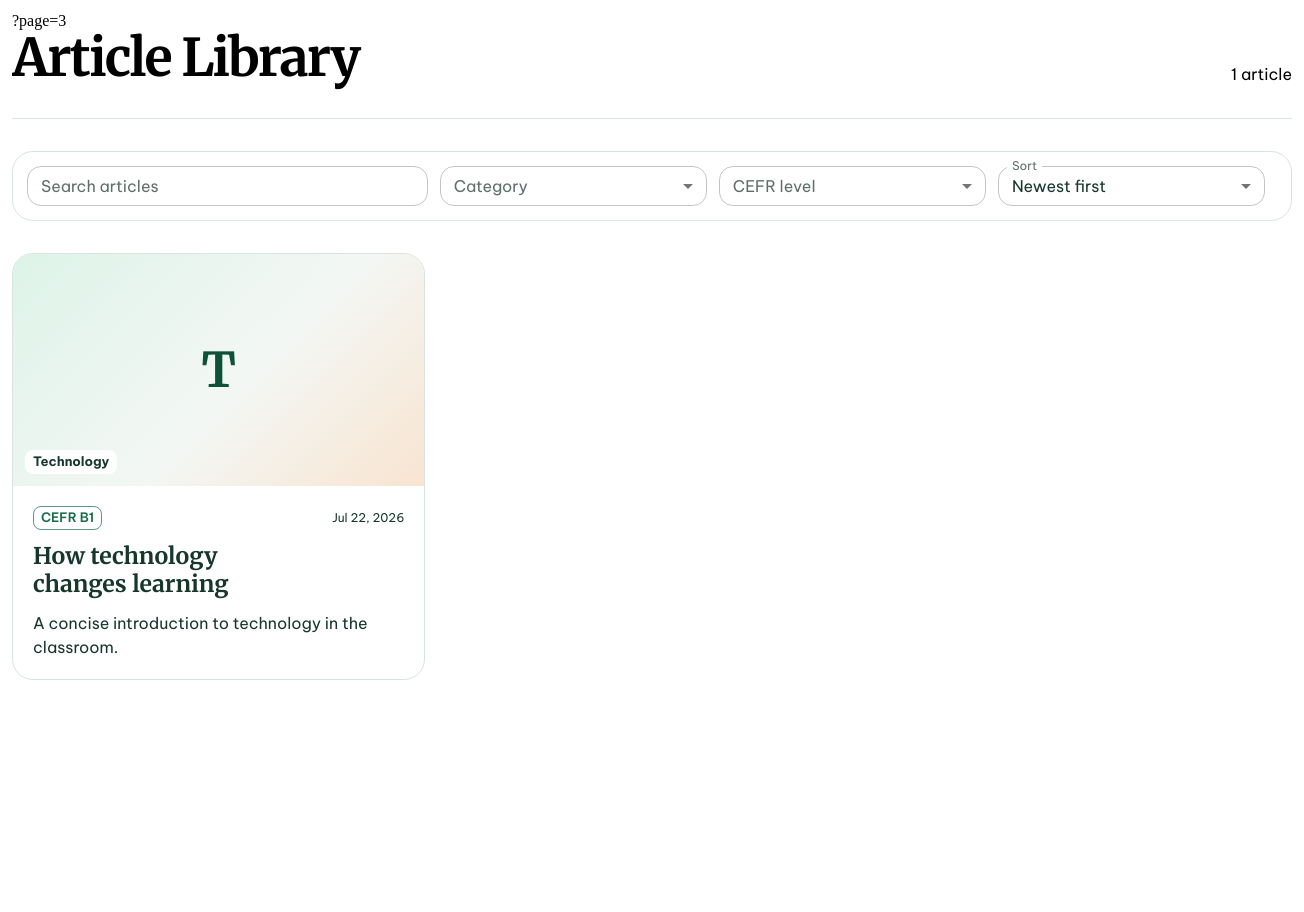
Test: Article Discovery interactions › resets the page when a select filter changes
Check: the heading "How technology changes learning" is shown, box [33,540,229,598]
What coordinates should you click on to do the following:
click the dropdown named "CEFR level" next to "CEFR level"
I would click on:
 (852, 186)
Its box is [719,166,986,206].
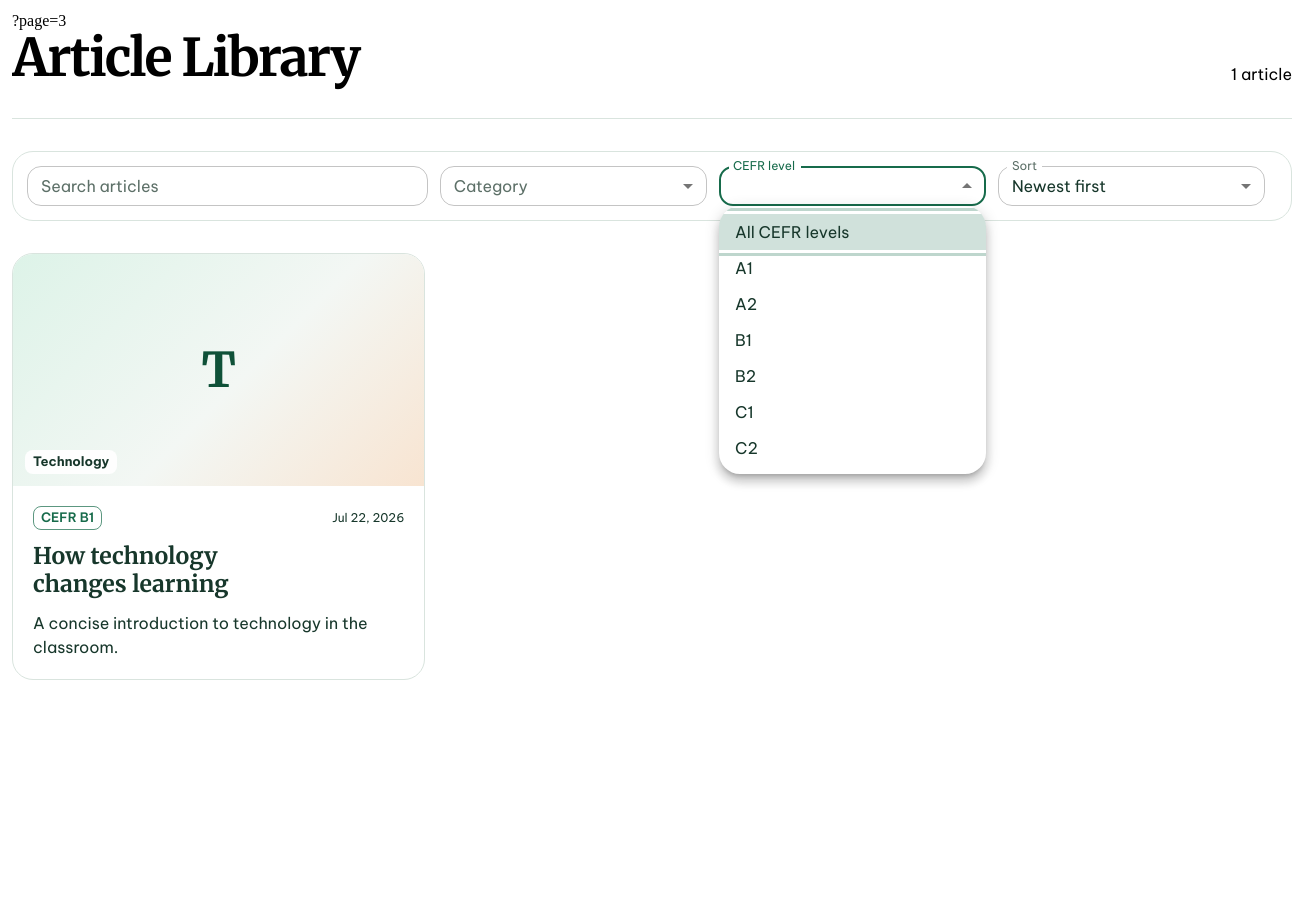
What coordinates should you click on to do the following:
click the option "B1"
I would click on:
 (744, 340)
Its box is [735,330,752,350].
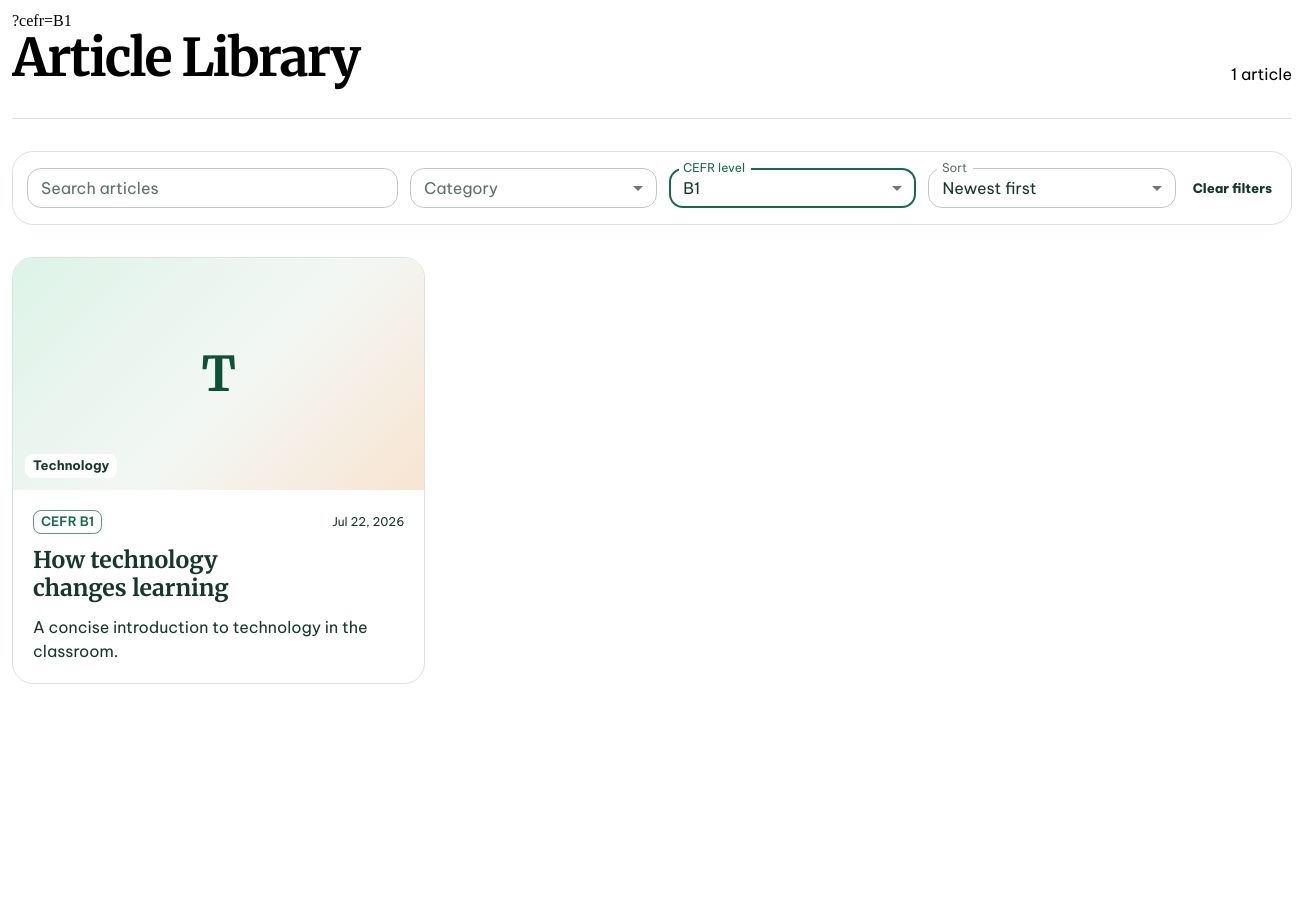
Check: the text named "Current location" reads "?cefr=B1", box [12,12,72,29]
Check: the text named "Current location" no longer shows "page=", box [12,12,72,29]
